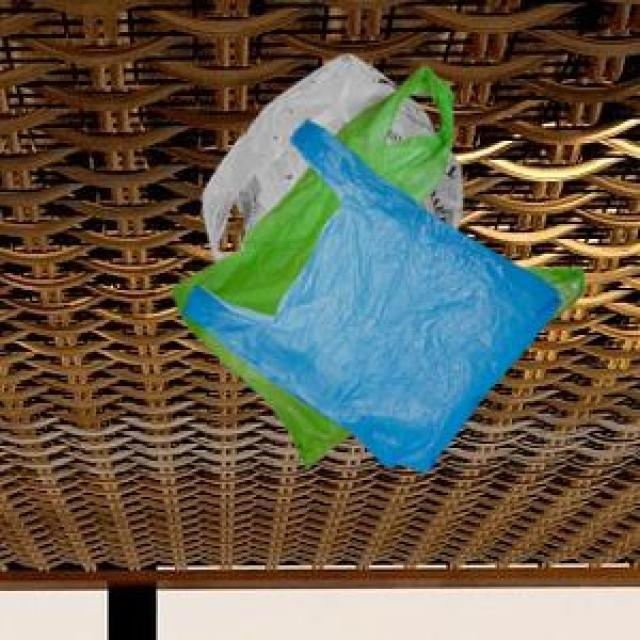waste: (175, 55, 584, 471), (175, 69, 584, 471), (204, 54, 394, 253), (429, 171, 458, 219), (396, 104, 432, 137)
